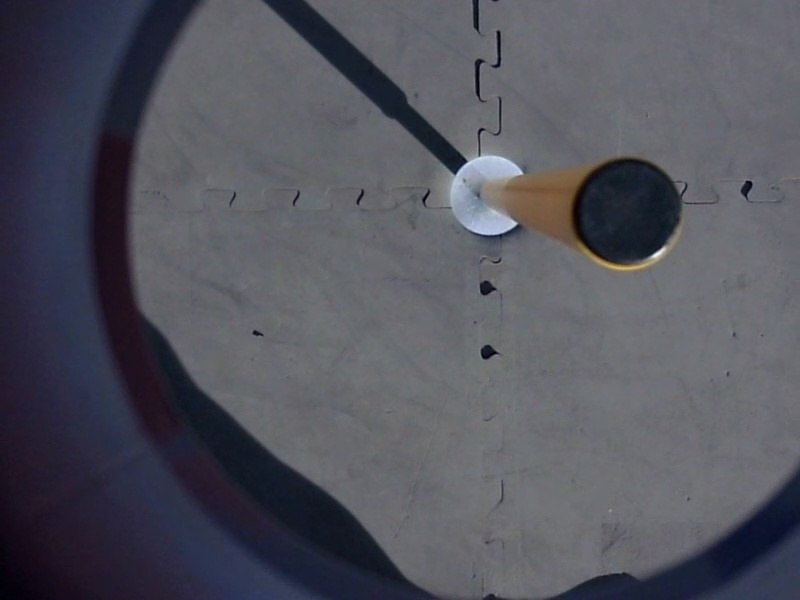tip: (565, 150, 688, 280)
